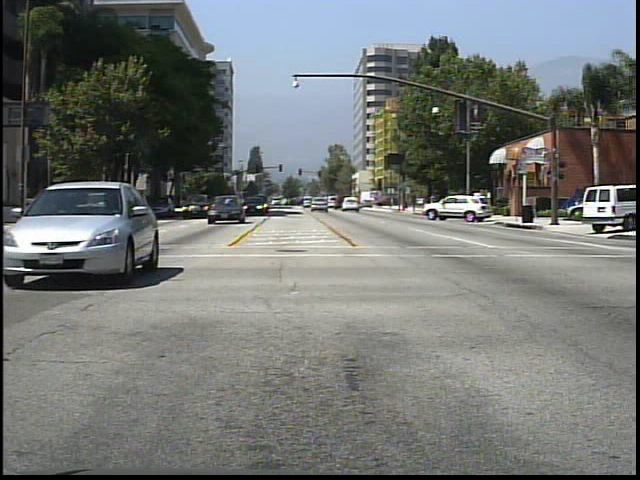person: (447, 187, 463, 220), (426, 187, 439, 213)
